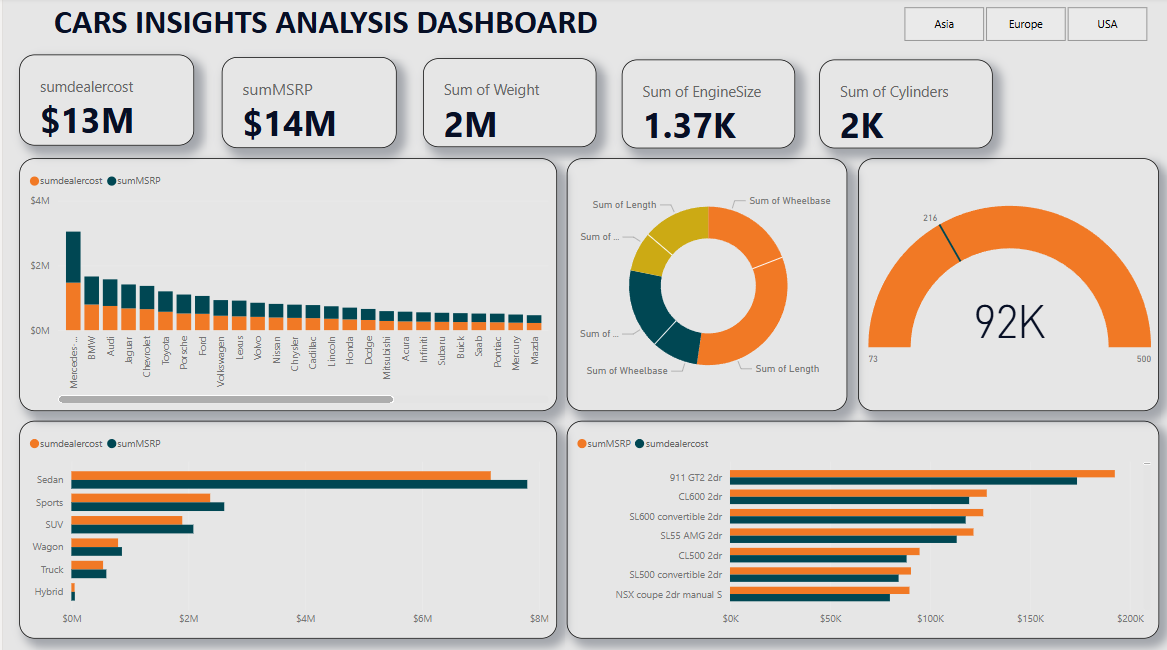

This screenshot's page, from the dashboard's own definition file:
{"tool":"powerbi","page":{"name":"Page 1","canvas":[1280,720],"ordinal":0},"visuals":[{"type":"cardVisual","title":"DEALER COST","fields":{"Data":["Large Cars Dataset.sumdealercost"]},"box":[17.8,63.1,192.1,100.2],"z":0},{"type":"cardVisual","fields":{"Data":["Large Cars Dataset.sumMSRP"]},"box":[240.1,65.9,192.1,100.2],"z":1000},{"type":"cardVisual","fields":{"Data":["Sum(Large Cars Dataset.EngineSize)"]},"box":[679.2,68.6,190.7,97.4],"z":2000},{"type":"cardVisual","fields":{"Data":["Sum(Large Cars Dataset.Cylinders)"]},"box":[896.1,68.6,190.7,97.4],"z":3000},{"type":"cardVisual","fields":{"Data":["Sum(Large Cars Dataset.Weight)"]},"box":[461.1,67.2,190.7,97.4],"z":4000},{"type":"columnChart","fields":{"Category":["Large Cars Dataset.Brand"],"Y":["Large Cars Dataset.sumdealercost","Large Cars Dataset.sumMSRP"]},"box":[18.1,176.4,590.3,277.8],"z":5000},{"type":"slicer","fields":{"Values":["Large Cars Dataset.Region"]},"box":[963.3,4.1,317,50.8],"z":6000},{"type":"clusteredBarChart","fields":{"Category":["Large Cars Dataset.VehicleClass"],"Y":["Large Cars Dataset.sumdealercost","Large Cars Dataset.sumMSRP"]},"box":[18.1,465.3,590.3,238.9],"z":7000},{"type":"clusteredBarChart","fields":{"Category":["Large Cars Dataset.Model"],"Y":["Large Cars Dataset.sumMSRP","Large Cars Dataset.sumdealercost"]},"box":[619.4,465.3,650,238.9],"z":8000},{"type":"donutChart","fields":{"Y":["Sum(Large Cars Dataset.Wheelbase)","Sum(Large Cars Dataset.Length)"],"Category":["Large Cars Dataset.DriveTrain"]},"box":[619.4,176.4,308.3,277.8],"z":9000},{"type":"gauge","fields":{"MinValue":["Large Cars Dataset.minhorse"],"MaxValue":["Large Cars Dataset.maxhorse"],"TargetValue":["Large Cars Dataset.avghorse"],"Y":["Sum(Large Cars Dataset.HorsePower)"]},"box":[938.9,176.4,330.6,277.8],"z":10000},{"type":"textbox","box":[50.8,0,680.6,65.9],"z":10002}]}

Visuals, with their boxes in screenshot pixels (x1, y1, x2, y2), scaled from the page's 1280x720 canvas onto the 1167x650 screenshot:
"DEALER COST" cardVisual: 16, 57, 191, 147
cardVisual - Large Cars Dataset.sumMSRP: 219, 59, 394, 150
cardVisual - Sum(Large Cars Dataset.EngineSize): 619, 62, 793, 150
cardVisual - Sum(Large Cars Dataset.Cylinders): 817, 62, 991, 150
cardVisual - Sum(Large Cars Dataset.Weight): 420, 61, 594, 149
columnChart - Large Cars Dataset.Brand x Large Cars Dataset.sumdealercost: 17, 159, 555, 410
slicer - Large Cars Dataset.Region: 878, 4, 1166, 50
clusteredBarChart - Large Cars Dataset.VehicleClass x Large Cars Dataset.sumdealercost: 17, 420, 555, 636
clusteredBarChart - Large Cars Dataset.Model x Large Cars Dataset.sumMSRP: 565, 420, 1157, 636
donutChart - Sum(Large Cars Dataset.Wheelbase) x Sum(Large Cars Dataset.Length): 565, 159, 846, 410
gauge - Large Cars Dataset.minhorse x Large Cars Dataset.maxhorse: 856, 159, 1157, 410
textbox: 46, 0, 667, 59
